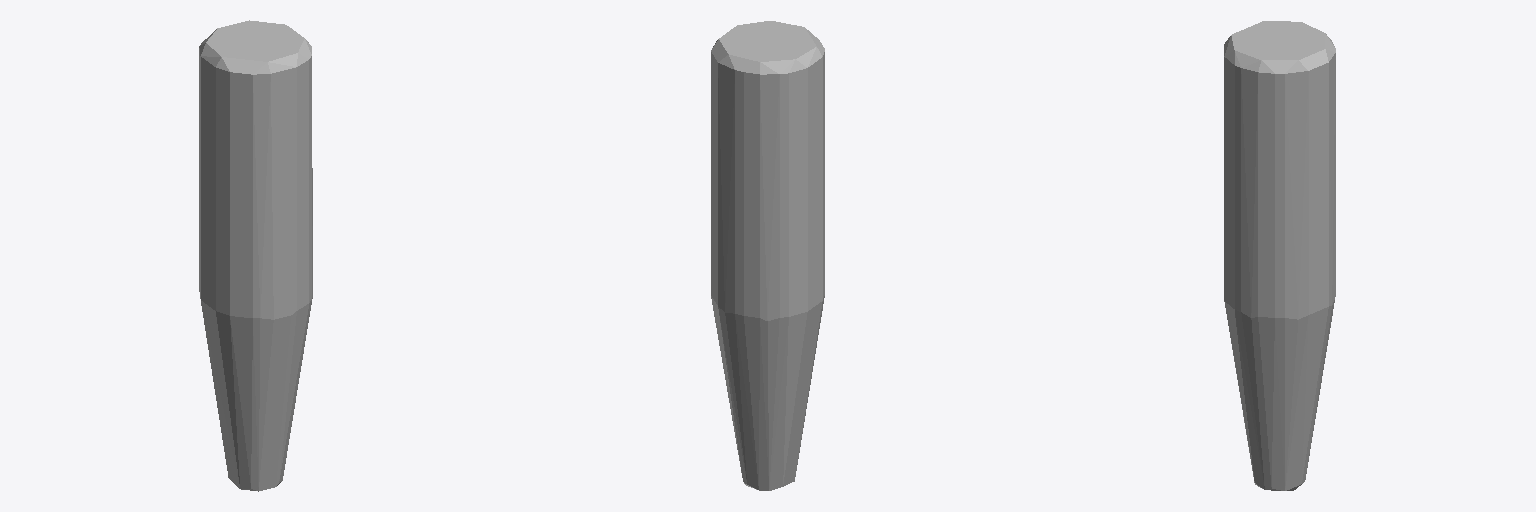
The robot description file, URDF, robot "root":
<robot name="root">
  <link name="link_799397068de1ae1c4587d6a85176d7a0_convex_piece_0">
    <inertial>
      <origin rpy="0 0 0" xyz="0 0 0"/>
      <mass value="2.26E-04"/>
      <inertia ixx="5.60E-07" ixy="-1.23E-10" ixz="-9.20E-11" iyy="5.60E-07" iyz="-3.73E-11" izz="5.75E-08"/>
    </inertial>
    <visual>
      <origin rpy="0 0 0" xyz="0 0 0"/>
      <geometry>
        <mesh filename="799397068de1ae1c4587d6a85176d7a0_convex_piece_0.obj" scale="1.0000E+00"/>
      </geometry>
      <material name="">
        <color rgba="7.50E-01 7.50E-01 7.50E-01 1"/>
      </material>
    </visual>
    <collision>
      <origin rpy="0 0 0" xyz="0 0 0"/>
      <geometry>
        <mesh filename="799397068de1ae1c4587d6a85176d7a0_convex_piece_0.obj" scale="1.0000E+00"/>
      </geometry>
    </collision>
  </link>
</robot>

--- Facts derived from the render (not from the file) ---
3 views of the same robot in one strip: view 1: azimuth 30°, elevation 25°; view 2: azimuth 150°, elevation 25°; view 3: azimuth 270°, elevation 25° (orthographic).
Model root with 1 links and 0 joints (none), rooted at link_799397068de1ae1c4587d6a85176d7a0_convex_piece_0, posed all joints at 0.
Links seen in each view (by area): view 1: link_799397068de1ae1c4587d6a85176d7a0_convex_piece_0; view 2: link_799397068de1ae1c4587d6a85176d7a0_convex_piece_0; view 3: link_799397068de1ae1c4587d6a85176d7a0_convex_piece_0.
Boxes of the visible links, box(x1,y1,x2,y2) form: link_799397068de1ae1c4587d6a85176d7a0_convex_piece_0: box(199, 20, 312, 491); link_799397068de1ae1c4587d6a85176d7a0_convex_piece_0: box(711, 21, 824, 490); link_799397068de1ae1c4587d6a85176d7a0_convex_piece_0: box(1224, 21, 1335, 490).
Size in the robot's own frame: 0.047 by 0.047 by 0.2064 metres.
Meshes: 1 distinct files referenced, 1 mesh visuals loaded (1 OBJ).